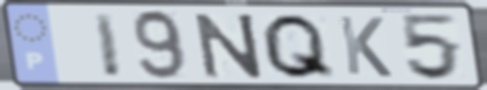5: (396, 12, 465, 82)
9: (131, 7, 191, 83)
I: (90, 11, 125, 80)
K: (335, 14, 395, 79)
N: (191, 11, 267, 81)
Q: (259, 11, 339, 81)
